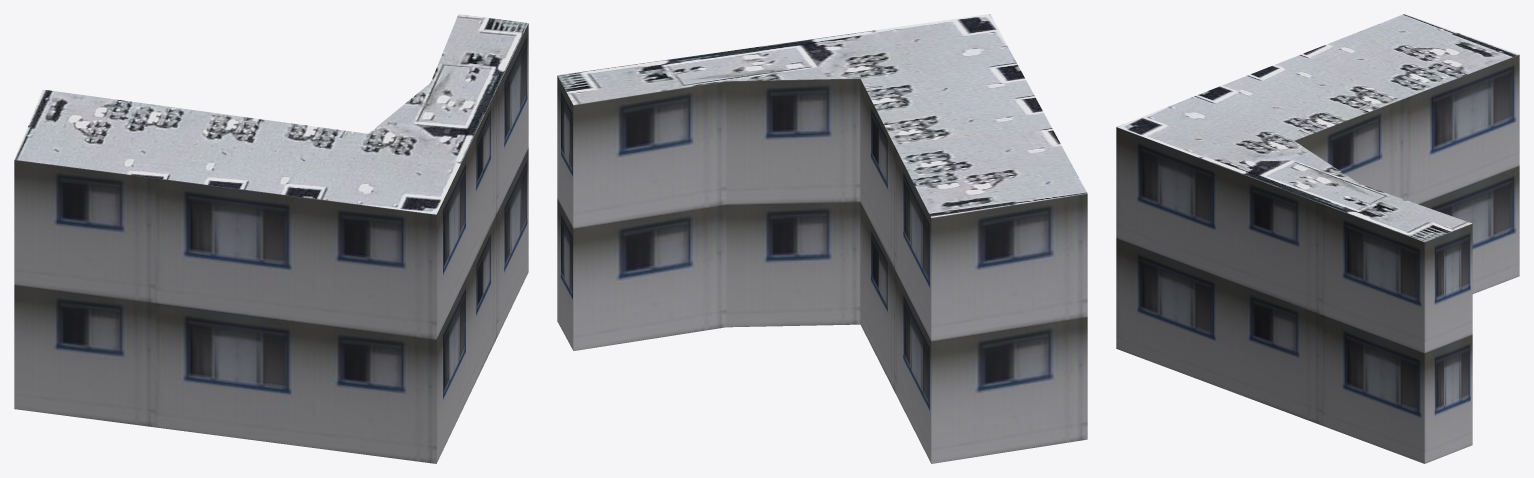
The model's file is ResTex__1288.fbx.
3 views of the same model, side by side, from view 1: azimuth 30°, elevation 25°; view 2: azimuth 150°, elevation 25°; view 3: azimuth 270°, elevation 25° (orthographic). The views are drawn at different scales.
Visible parts, largest first — view 1: CityEngineMaterial_9_m, CityEngineMaterial_m; view 2: CityEngineMaterial_9_m, CityEngineMaterial_m; view 3: CityEngineMaterial_9_m, CityEngineMaterial_m.
Part boxes in pixels (x1,y1,x2,y2): CityEngineMaterial_9_m: (14, 23, 528, 463); CityEngineMaterial_m: (14, 14, 528, 214); CityEngineMaterial_9_m: (557, 76, 1087, 463); CityEngineMaterial_m: (557, 14, 1087, 217); CityEngineMaterial_9_m: (1116, 54, 1519, 463); CityEngineMaterial_m: (1117, 14, 1518, 241).
Size of the model in its own units: 13.24 by 6 by 9.89.
Materials: 2 (2 with a texture image).
